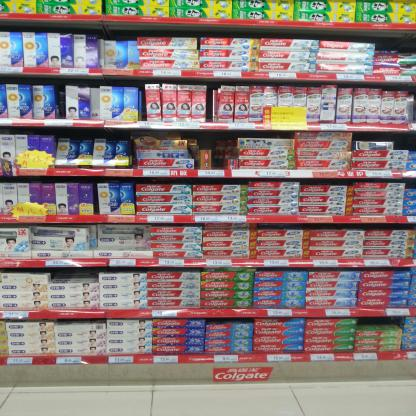Void: (377, 30, 414, 51), (210, 132, 228, 170), (359, 130, 409, 143), (52, 270, 94, 280), (359, 318, 398, 326)
